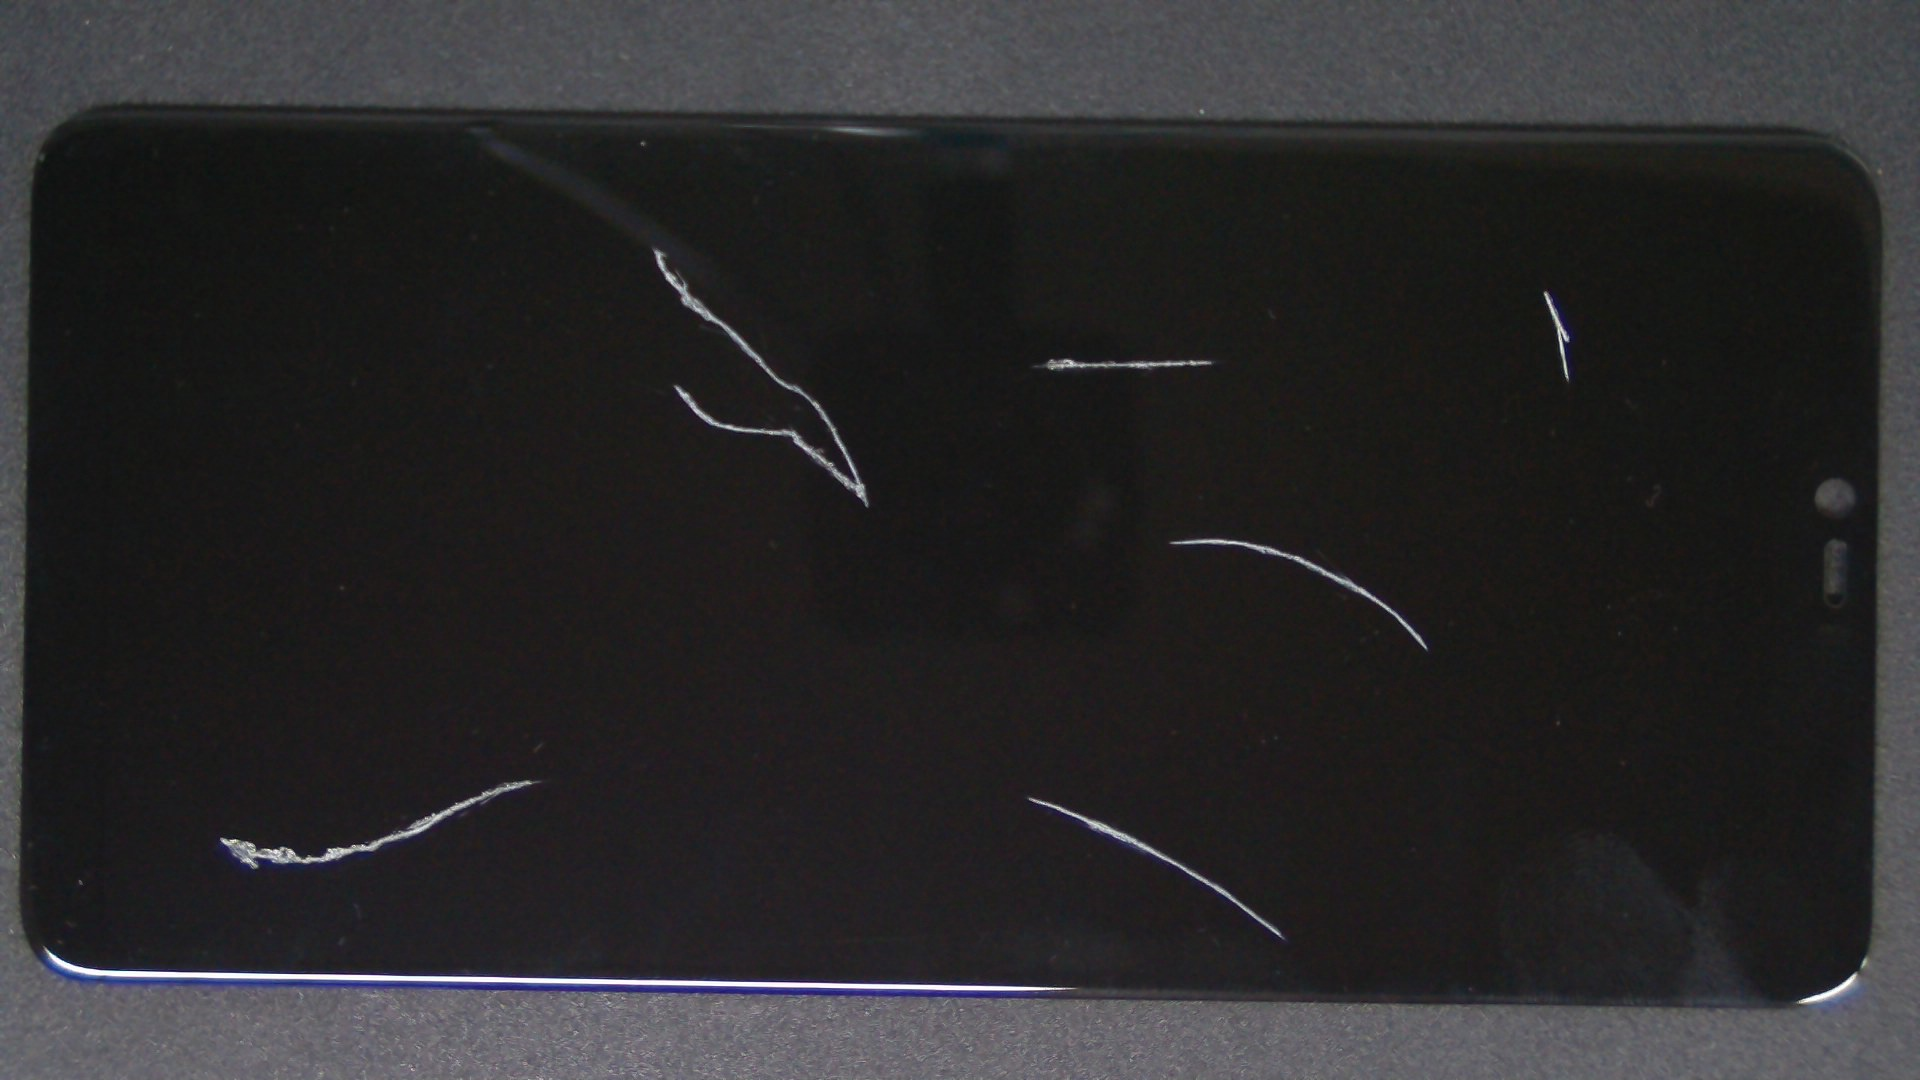oil: (514, 397, 1542, 1080), (600, 268, 1800, 806), (527, 178, 1578, 535), (264, 389, 789, 1080), (774, 144, 1920, 434), (326, 123, 977, 371)
